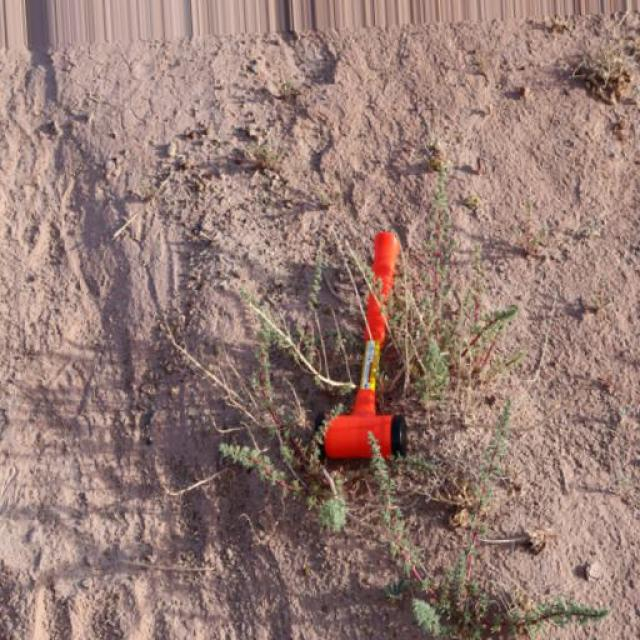mallet: (320, 229, 409, 461)
